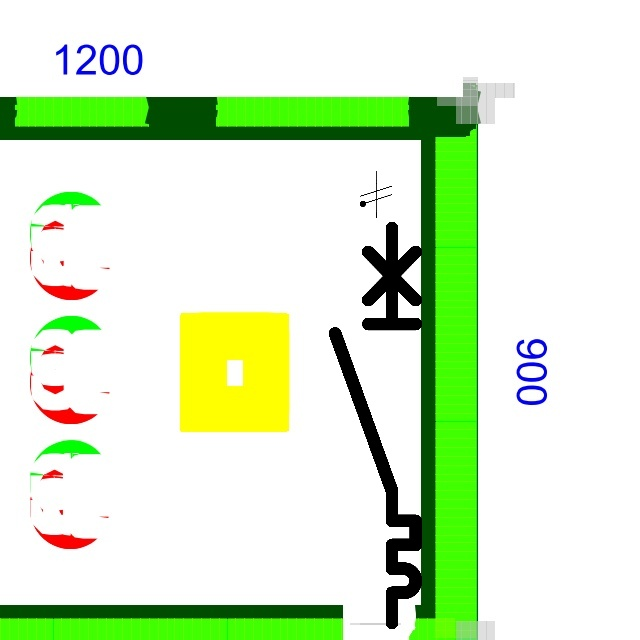interruptor_termomagnetico: (325, 217, 426, 632)
